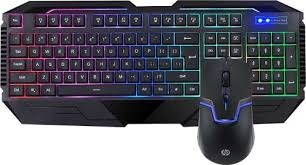keyboard: (0, 1, 306, 121)
mouse: (195, 56, 257, 165)
